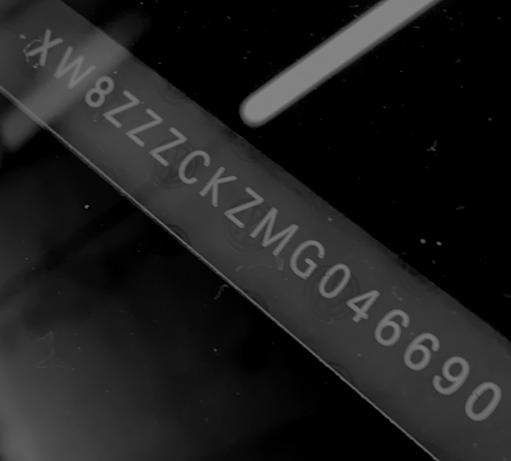letter: (248, 206, 299, 257), (51, 44, 97, 89), (222, 185, 265, 230), (463, 379, 504, 424), (198, 164, 239, 207), (431, 355, 472, 397), (401, 330, 441, 373), (125, 105, 163, 150), (287, 236, 327, 278), (373, 307, 412, 350), (101, 89, 140, 131), (148, 126, 187, 168), (23, 27, 62, 69), (316, 261, 352, 299), (345, 288, 380, 325), (177, 148, 210, 183), (83, 73, 115, 108)
